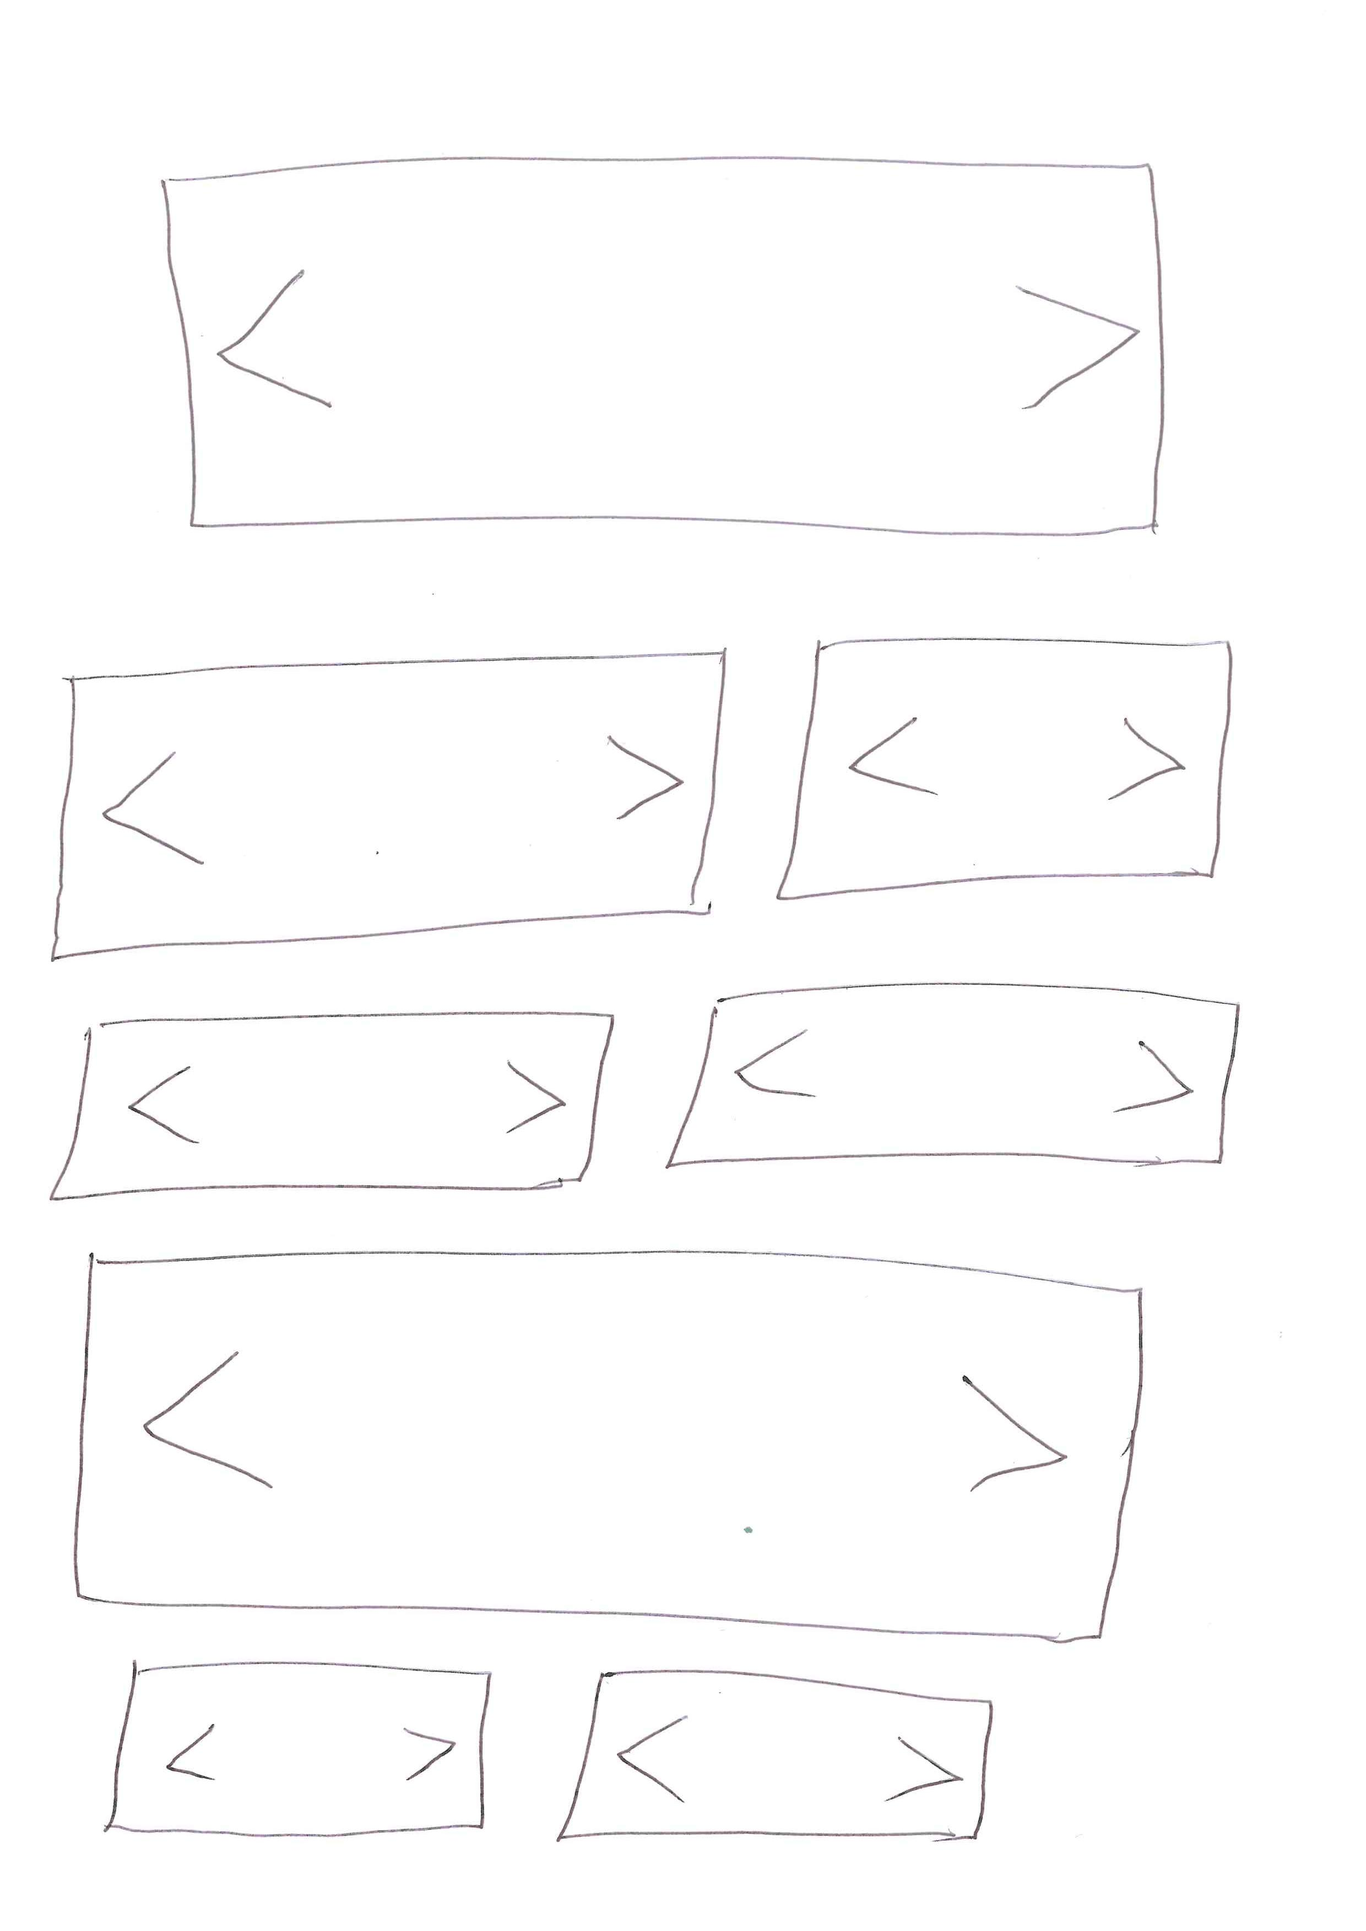Carousel: (68, 1249, 1150, 1644), (155, 154, 1169, 543), (43, 648, 727, 964), (772, 636, 1236, 905), (658, 977, 1245, 1171), (43, 1008, 614, 1205), (550, 1668, 993, 1847), (92, 1659, 494, 1841)
